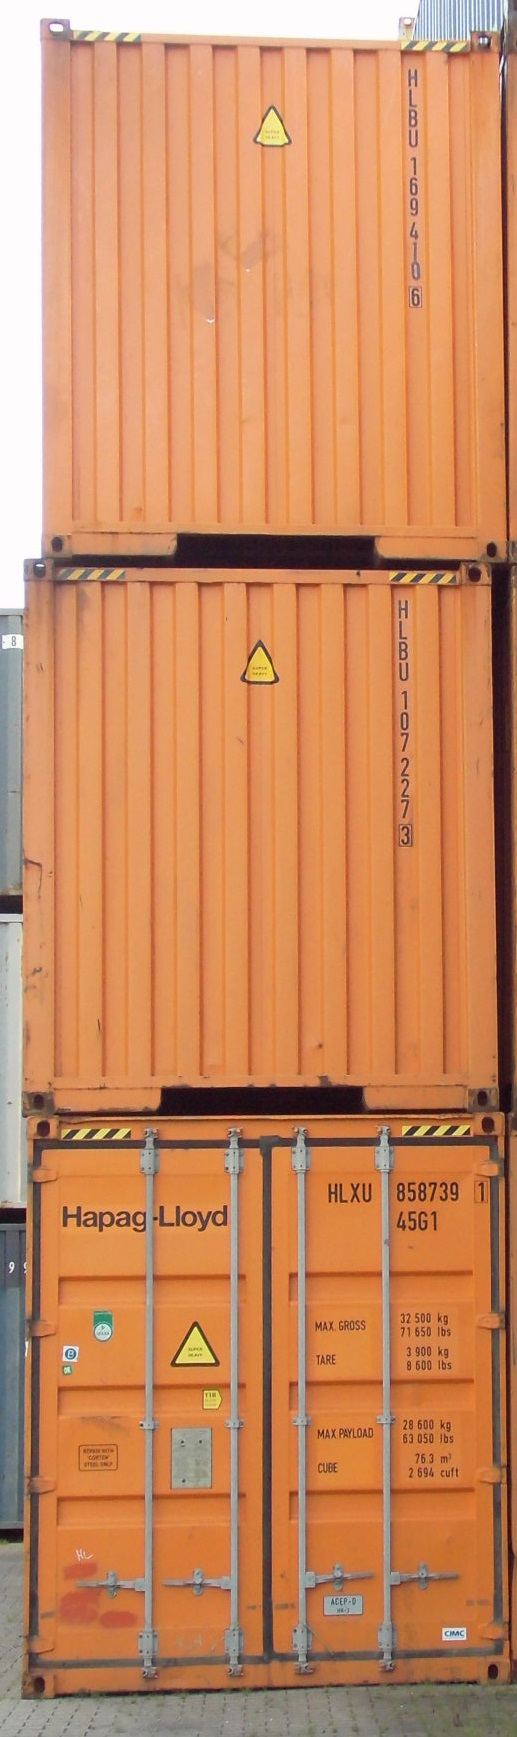container_door: (15, 1111, 505, 1705)
container_no_door: (23, 556, 498, 1111), (45, 27, 494, 565)
